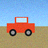vehicle: (7, 17, 35, 36)
